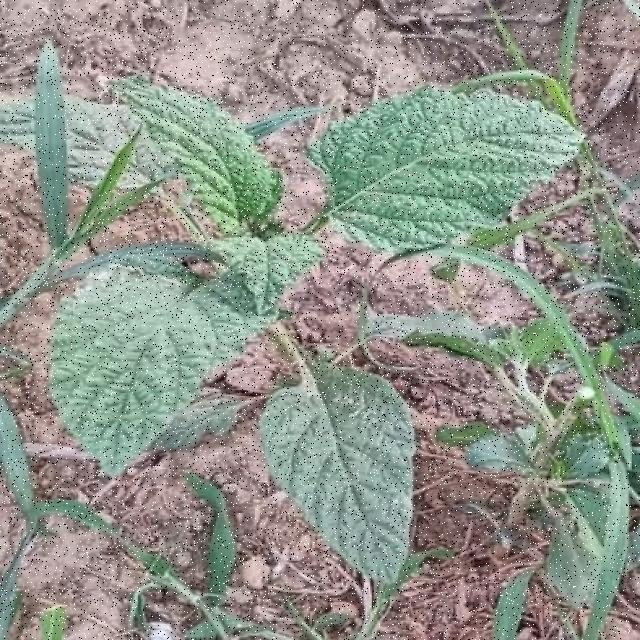weed: (50, 77, 320, 476), (307, 88, 582, 251), (260, 364, 411, 587)
